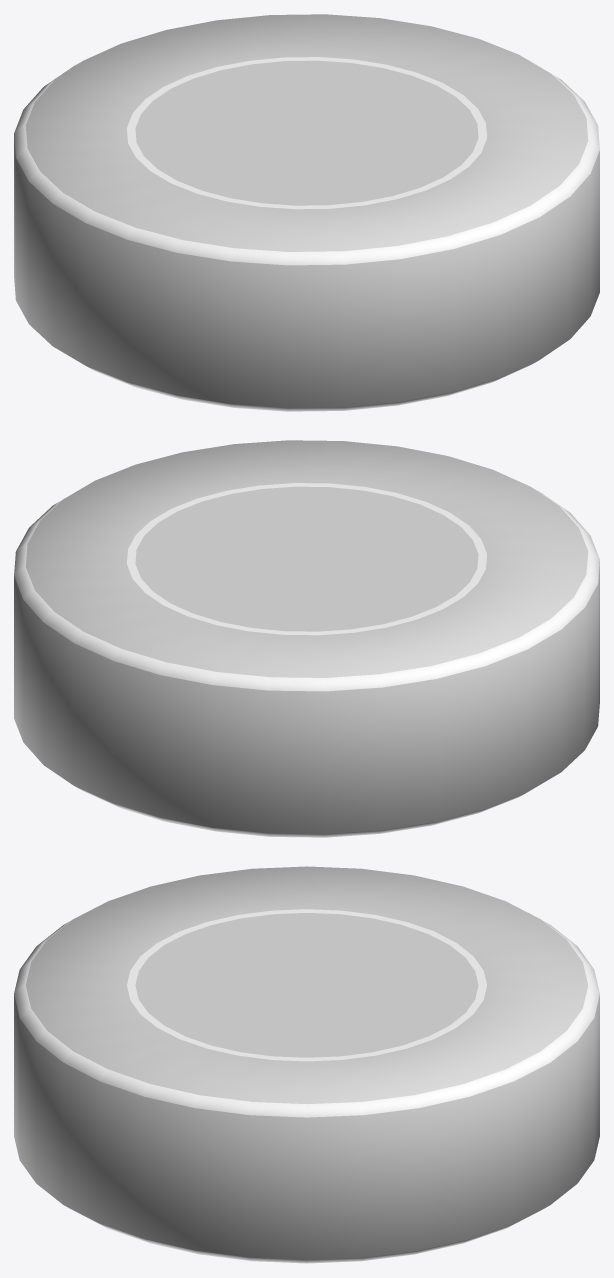
Rendered from mainHajiki.gltf.
3 views of the same model, one above another, from view 1: azimuth 30°, elevation 25°; view 2: azimuth 150°, elevation 25°; view 3: azimuth 270°, elevation 25° (orthographic).
Parts seen in each view (by area): view 1: LineHajiki; view 2: LineHajiki; view 3: LineHajiki.
Part boxes in pixels (x1,y1,x2,y2): LineHajiki: (14, 14, 599, 411); LineHajiki: (14, 440, 599, 837); LineHajiki: (14, 866, 599, 1263).
Size of the model in its own units: 0.04 by 0.012 by 0.04.
Materials: 1 (1 with a texture image).
